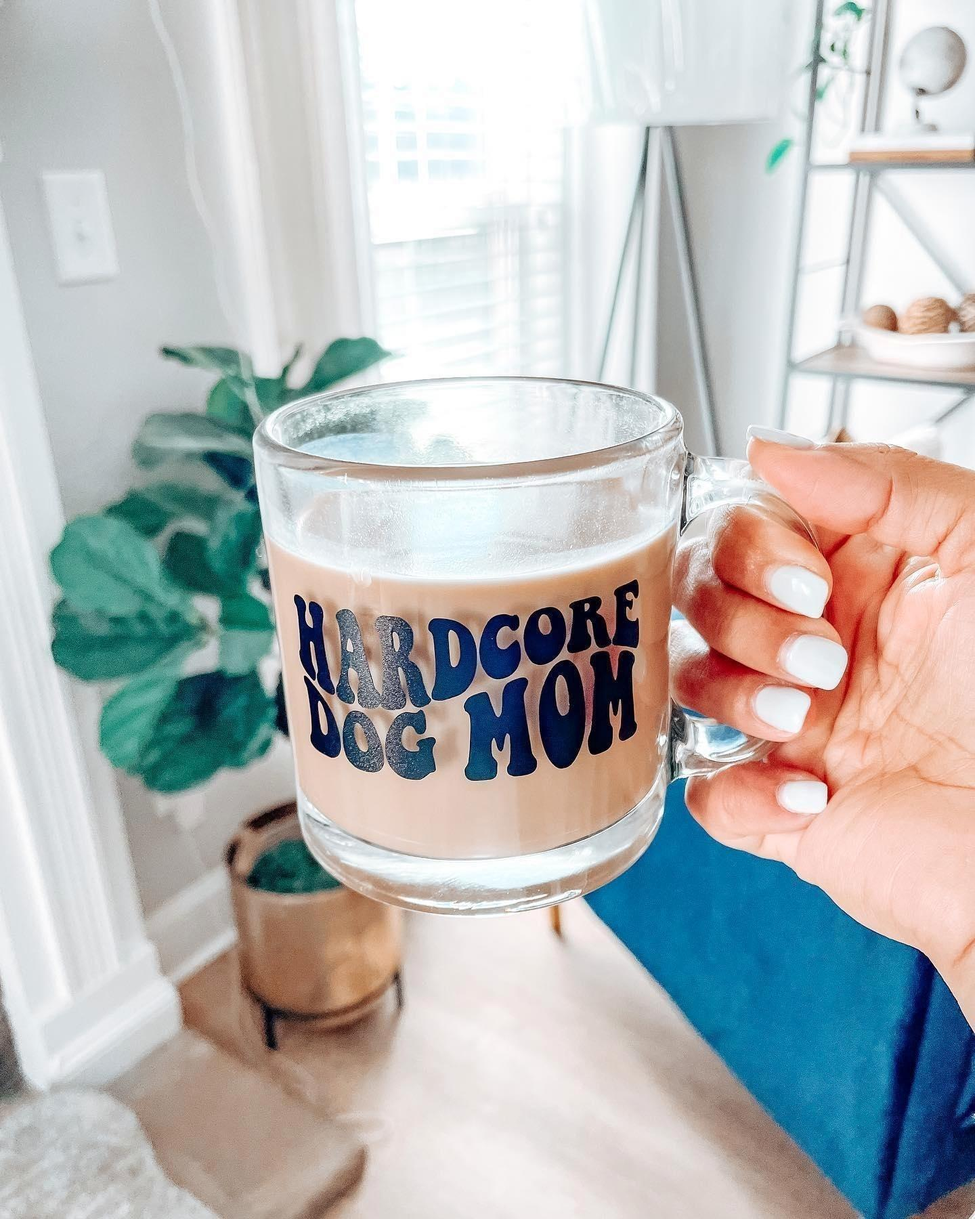glass-mug: (227, 358, 830, 930)
